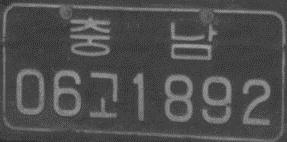0: (15, 67, 45, 115)
1: (124, 72, 155, 122)
2: (240, 77, 271, 126)
6: (51, 68, 82, 116)
8: (163, 74, 193, 123)
9: (200, 75, 232, 125)
고: (88, 70, 119, 119)
충남_D: (69, 15, 218, 62)
